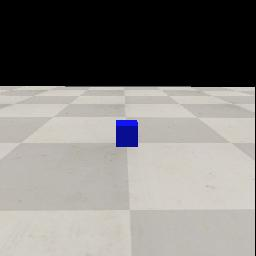box: (116, 119, 139, 147)
